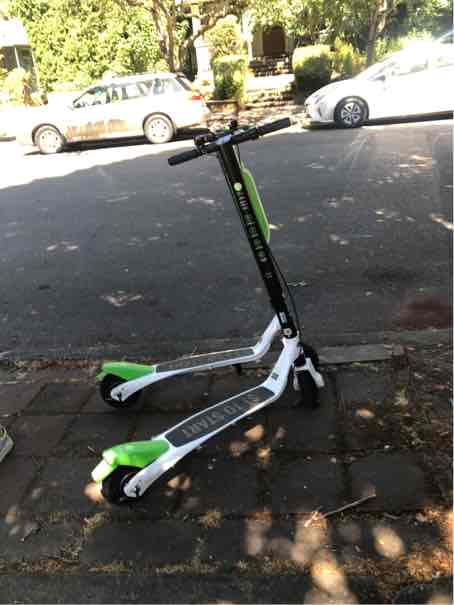scooter: (78, 118, 329, 515)
